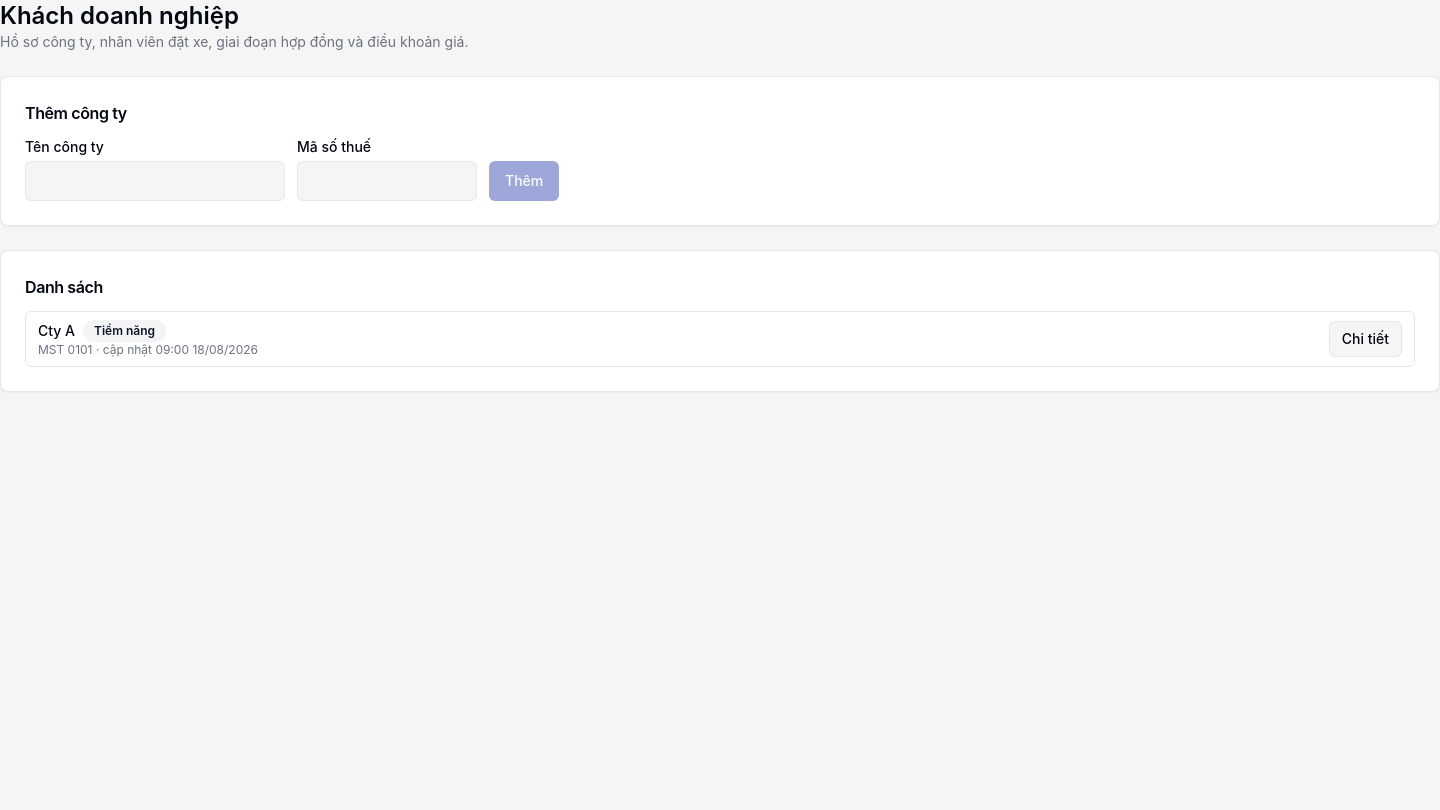
Test: /crm-accounts › LEAD không có nút nhảy thẳng sang "Đang hoạt động"
Click the button "Chi tiết " at (1365, 339), box top-left (1329, 321), bottom-right (1402, 357)
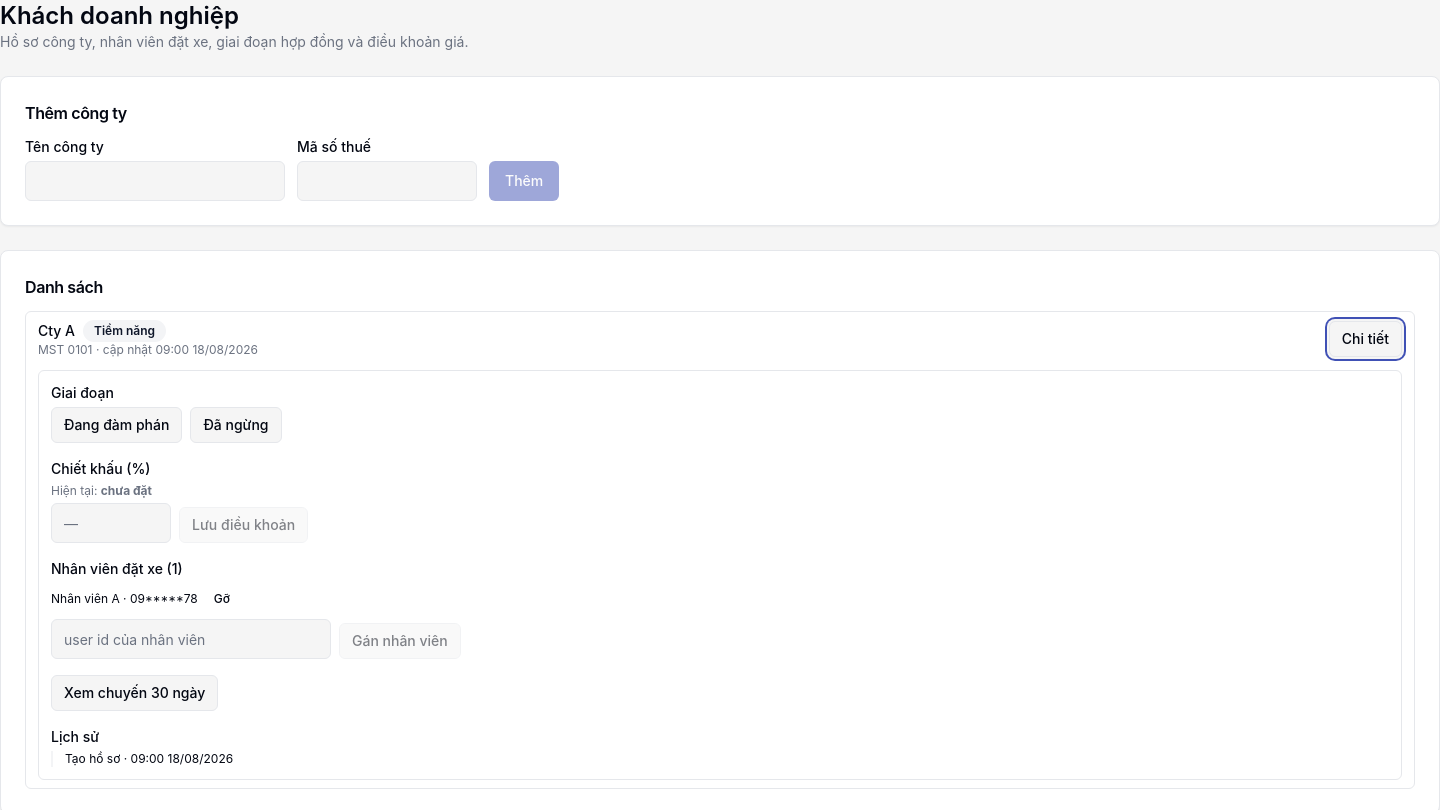
Check: the element with test id "crm-account-detail" is shown, box top-left (38, 370), bottom-right (1402, 780)
Check: the button "Đang đàm phán" is shown, box top-left (51, 407), bottom-right (182, 443)
